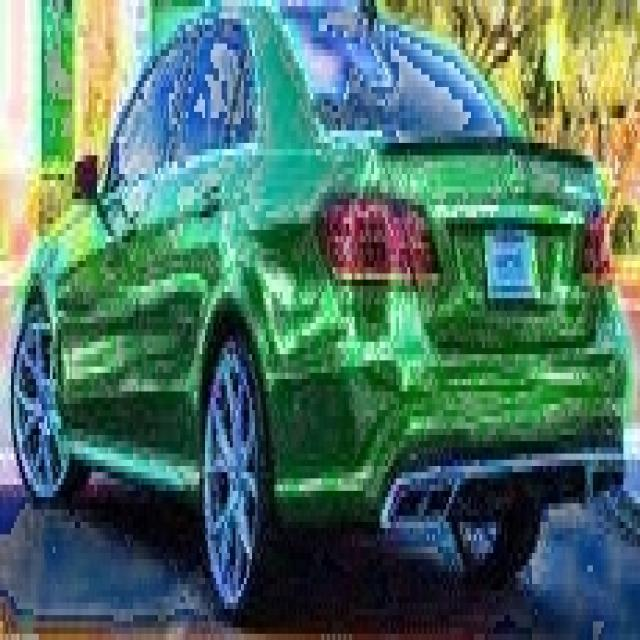green: (8, 6, 632, 615)
